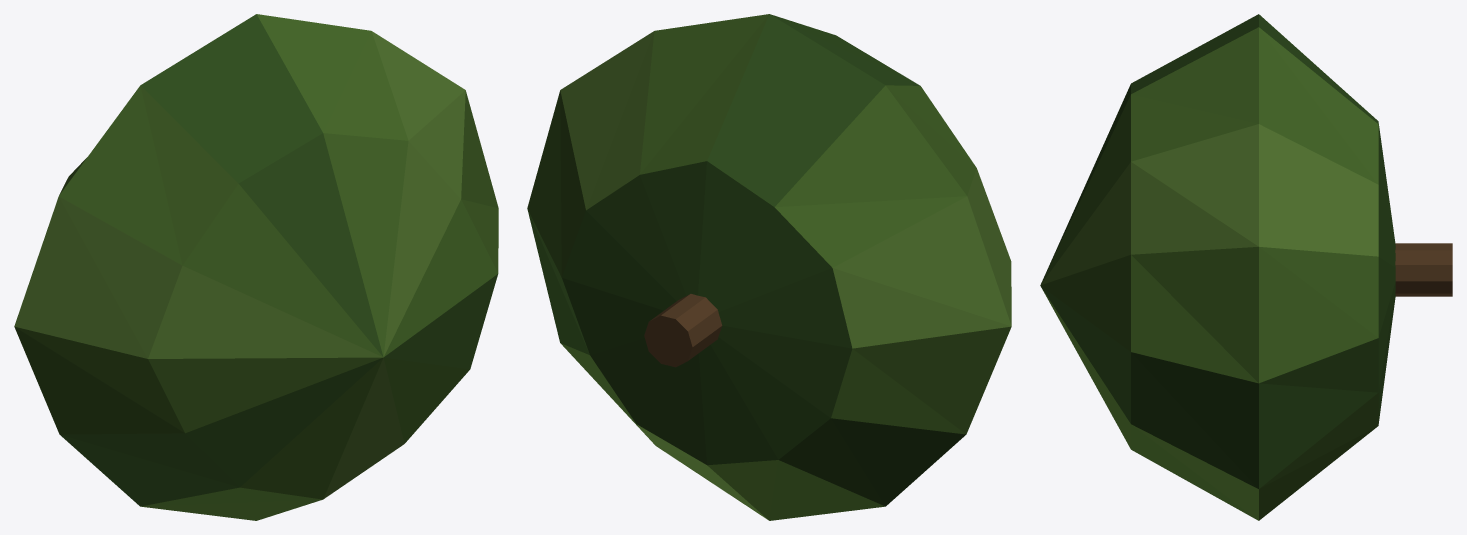
Rendered from shrub.obj.
3 renders of one model, left to right at view 1: azimuth 30°, elevation 25°; view 2: azimuth 150°, elevation 25°; view 3: azimuth 270°, elevation 25°, orthographic. The views are drawn at different scales.
Parts seen in each view (by area): view 1: shrub; view 2: shrub; view 3: shrub.
Part boxes in pixels (<box>): shrub: <box>14,14,498,520</box>; shrub: <box>527,14,1011,520</box>; shrub: <box>1040,14,1452,520</box>.
Size of the model in its own units: 1.3 by 1.3 by 1.
